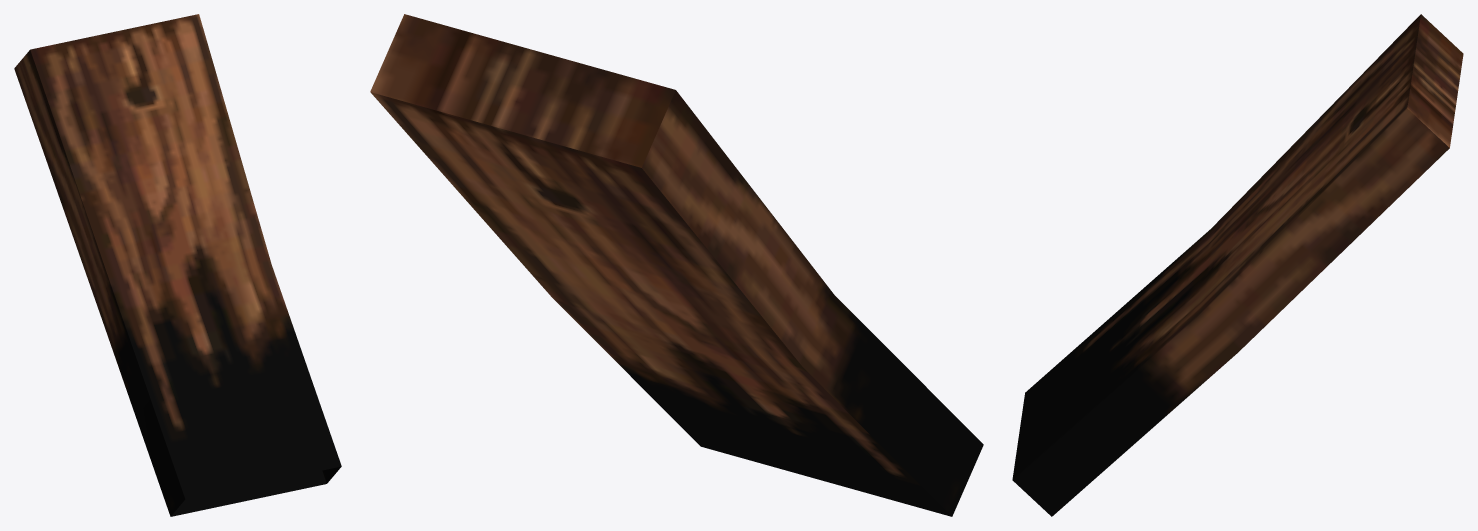
File: OVERHILL_A_01_BROKEN_BOARD_09.fbx
3 renders of one model, left to right at view 1: azimuth 30°, elevation 25°; view 2: azimuth 150°, elevation 25°; view 3: azimuth 270°, elevation 25°, orthographic. The views are drawn at different scales.
Parts seen in each view (by area): view 1: OVERHILL_A_01_BROKEN_BOARD_09; view 2: OVERHILL_A_01_BROKEN_BOARD_09; view 3: OVERHILL_A_01_BROKEN_BOARD_09.
Boxes of the visible parts, x1,y1,x2,y2 form: OVERHILL_A_01_BROKEN_BOARD_09: (14, 14, 341, 516); OVERHILL_A_01_BROKEN_BOARD_09: (370, 14, 983, 516); OVERHILL_A_01_BROKEN_BOARD_09: (1012, 14, 1463, 516).
Size of the model in its own units: 3804 by 7306 by 7091.
Materials: 1 (1 with a texture image).
